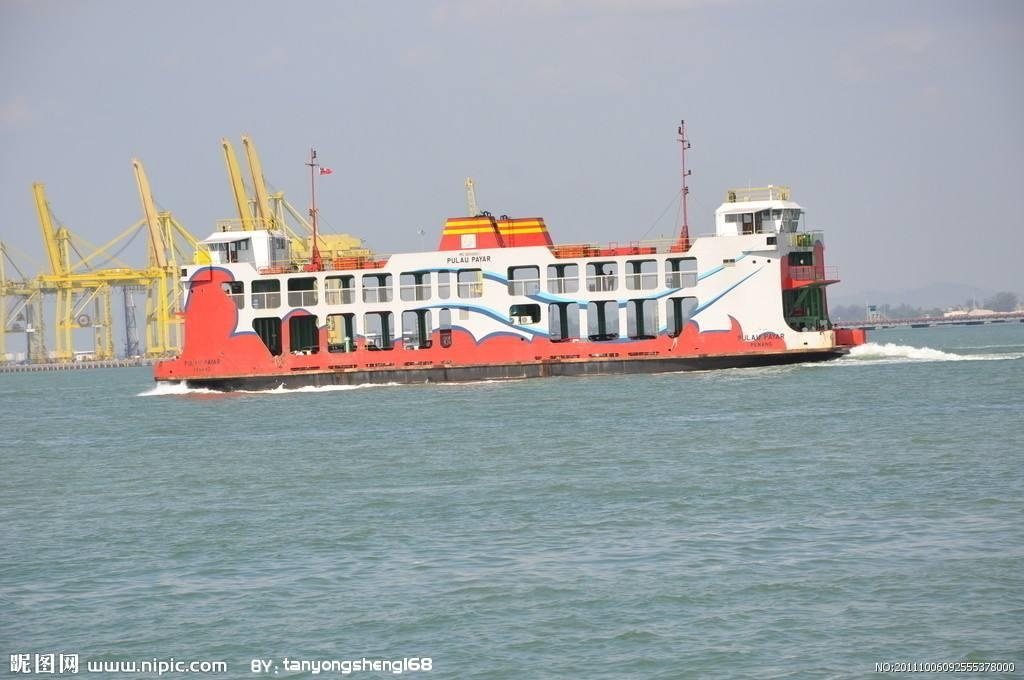otherboat: (152, 157, 853, 392)
